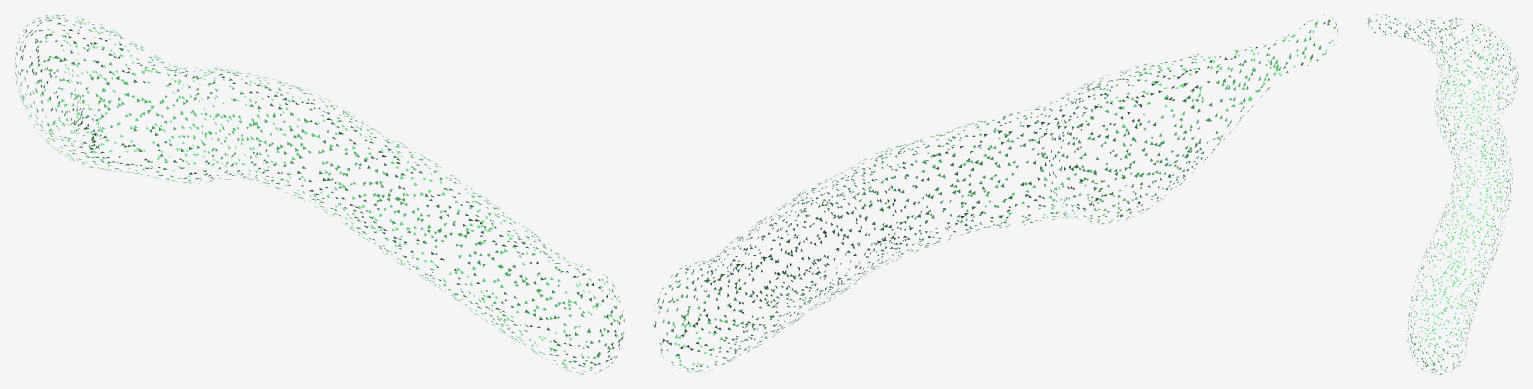
File: morph_019.glb
3 renders of one model, left to right at view 1: azimuth 30°, elevation 25°; view 2: azimuth 150°, elevation 25°; view 3: azimuth 270°, elevation 25°, orthographic. The views are drawn at different scales.
Size of the model in its own units: 113 by 81.68 by 49.6.
